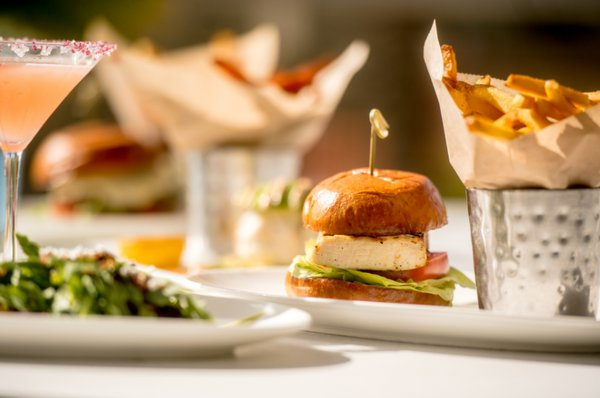soup: (284, 167, 465, 306)
